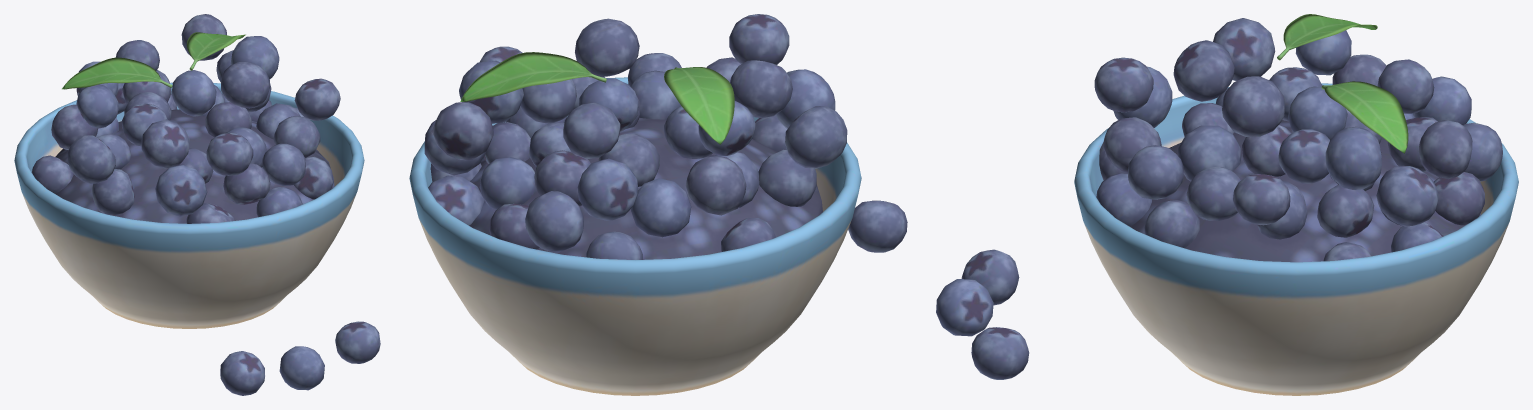
Rendered from blueberries.glb.
3 renders of one model, left to right at view 1: azimuth 30°, elevation 25°; view 2: azimuth 150°, elevation 25°; view 3: azimuth 270°, elevation 25°, orthographic. The views are drawn at different scales.
Visible parts, largest first — view 1: blueberries_body; view 2: blueberries_body; view 3: blueberries_body.
Part boxes in pixels (left/top/right/bottom): blueberries_body: left=14, top=14, right=380, bottom=395; blueberries_body: left=409, top=14, right=907, bottom=395; blueberries_body: left=936, top=14, right=1518, bottom=395.
Size of the model in its own units: 0.099 by 0.0711 by 0.1297.
Materials: 1 (1 with a texture image).
